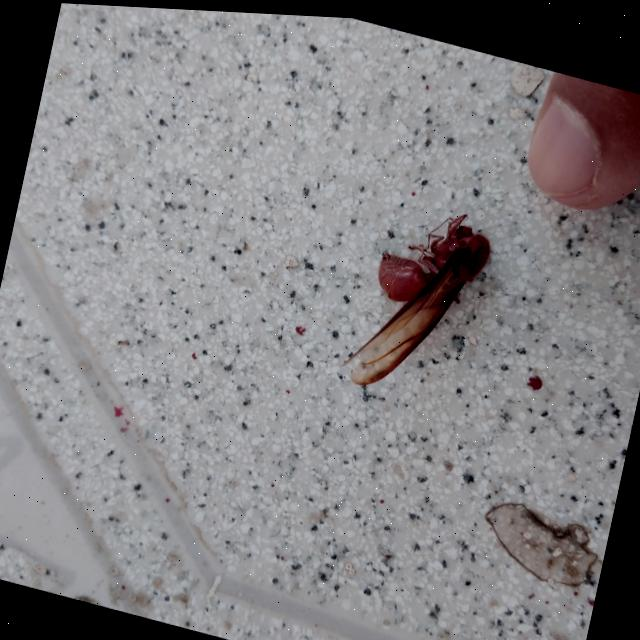Dead-Male-Alate: (338, 184, 496, 413)
